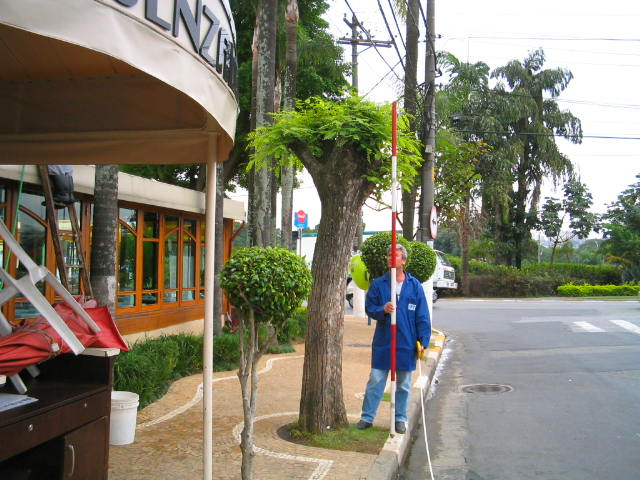crown: (246, 87, 423, 205)
stem: (288, 189, 366, 433)
stick: (381, 101, 405, 439)
tree: (243, 87, 424, 436)
